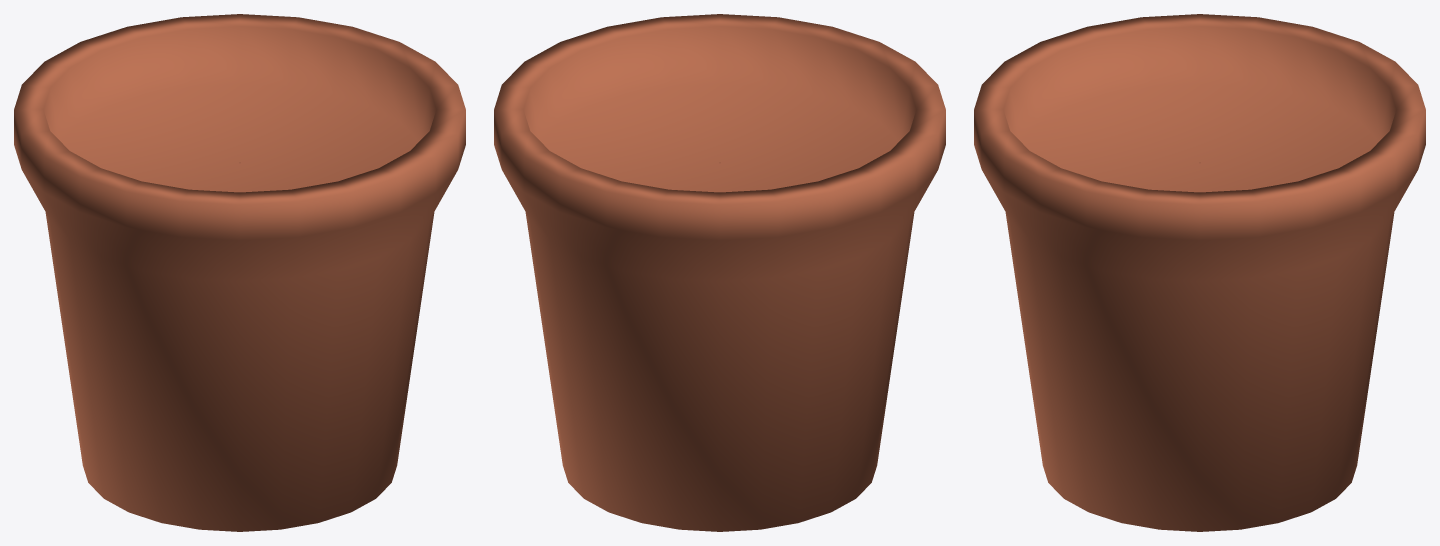
File: plant_pot.obj
3 views of the same model, side by side, from view 1: azimuth 30°, elevation 25°; view 2: azimuth 150°, elevation 25°; view 3: azimuth 270°, elevation 25° (orthographic).
Parts seen in each view (by area): view 1: pot; view 2: pot; view 3: pot.
Part boxes in pixels (x1,y1,x2,y2): pot: [14, 14, 465, 531]; pot: [494, 14, 945, 531]; pot: [974, 14, 1425, 531].
Bounding box in the file's own units: 0.46 × 0.4 × 0.46.
